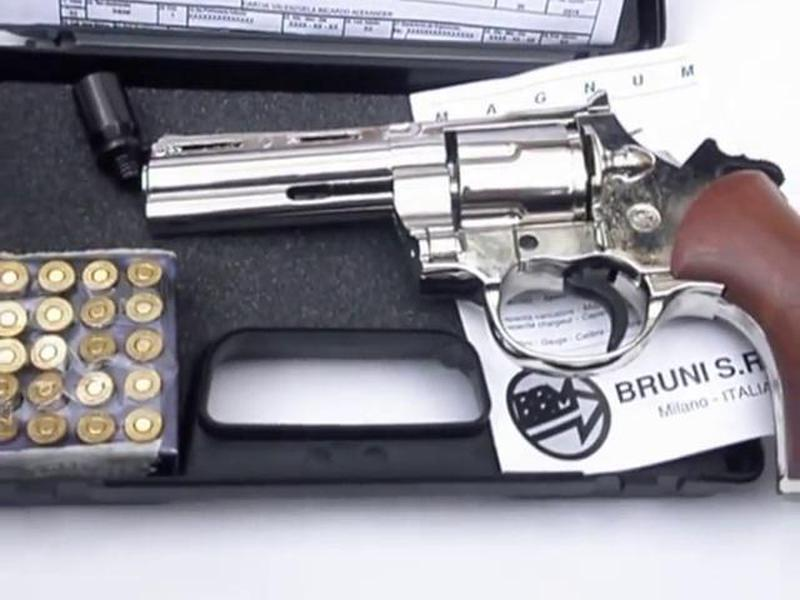Revolver: (132, 69, 800, 395)
